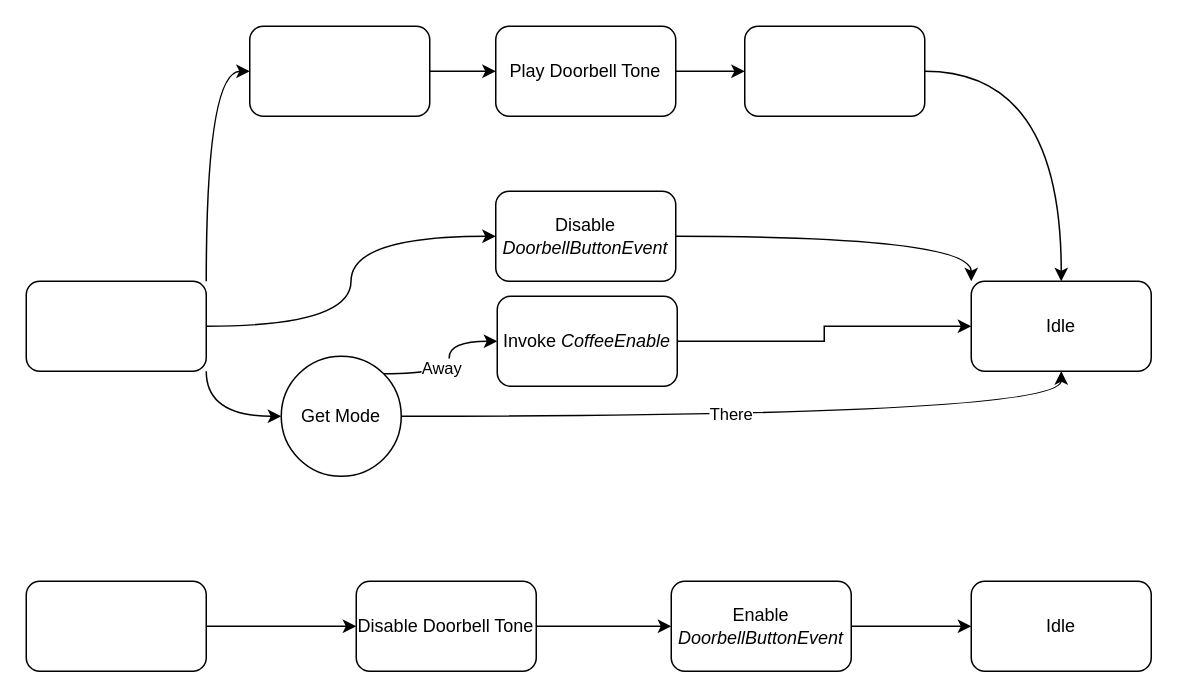
Image size: 1178x698. Some labels were removed from this diagram. The shapes that lost their labels are listed below. From the top down, each one's centre as x and y in pixels, then its label:
At point 339,70: "Configure DoorbellTimer".
At point 834,70: "Start DoorbellTimer".
At point 115,325: "DoorbellButtonEvent".
At point 115,625: "DoorbellTimerEvent".
